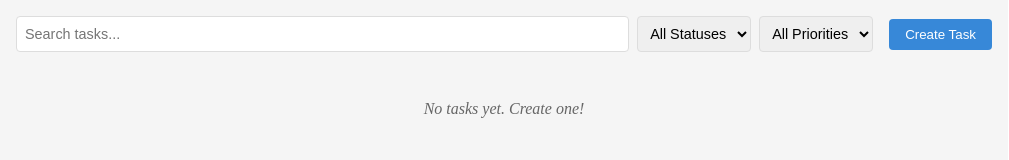
Test case: TaskListView Component › Task Display & Sorting › should handle empty states (no tasks, no matches)
Expected: the text "No tasks yet. Create one!" is shown, [424,100,584,117]
In the field with placeholder "Search tasks...": [323, 34] box [16,16,629,52], type "nonexistent task"
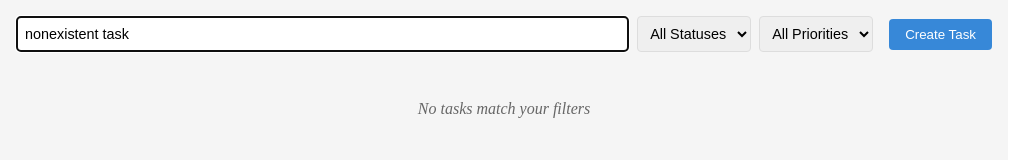
Result: the text "No tasks match your filters" is shown at [418,100,590,117]
